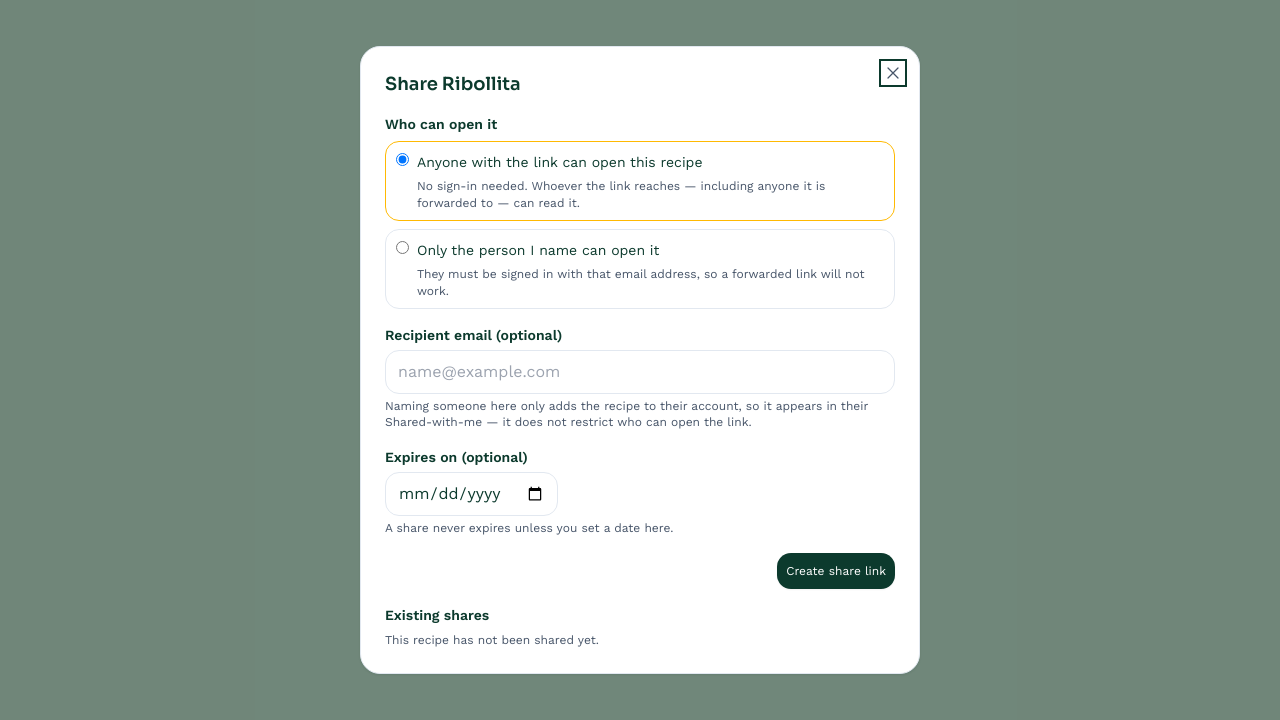
it: refuses to create a person share with no recipient
Click the radio button labelled "Only the person I name can open it": [402, 247] box [396,241,409,254]
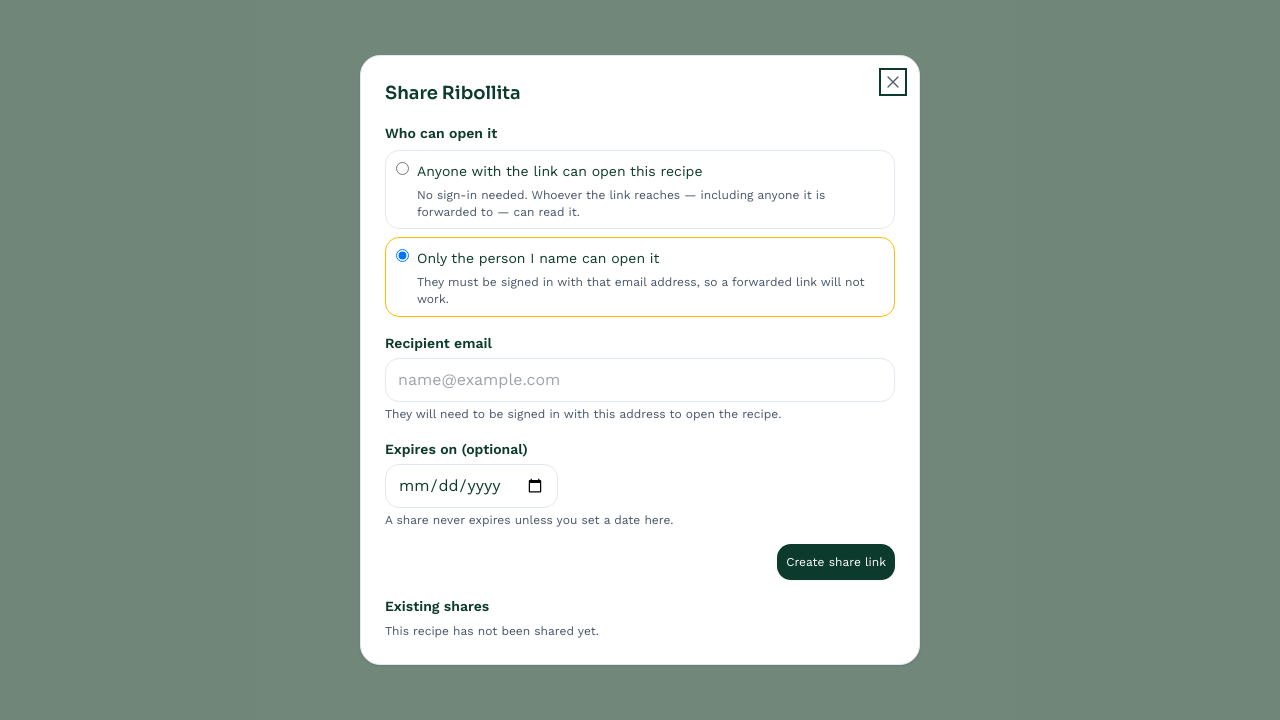
Click the button "Create share link": [836, 562] box [777,544,895,580]
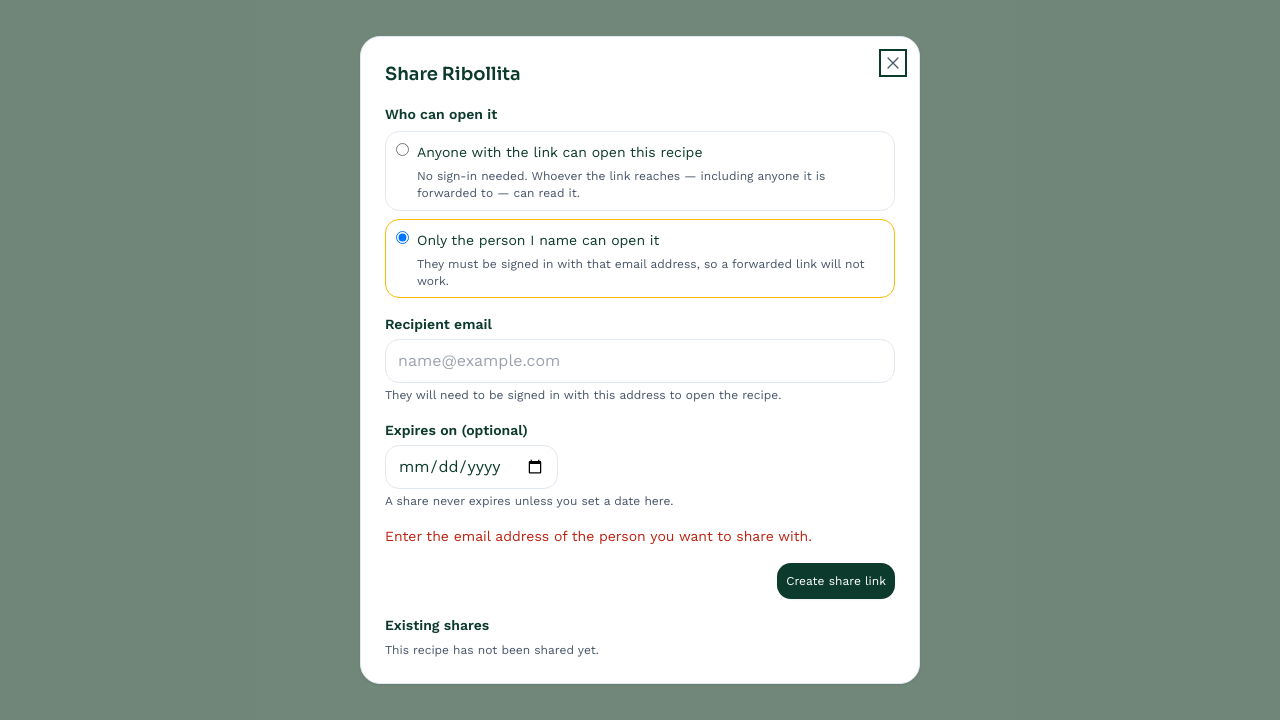
Check: the text "Enter the email address" is shown, box [385,528,812,544]
